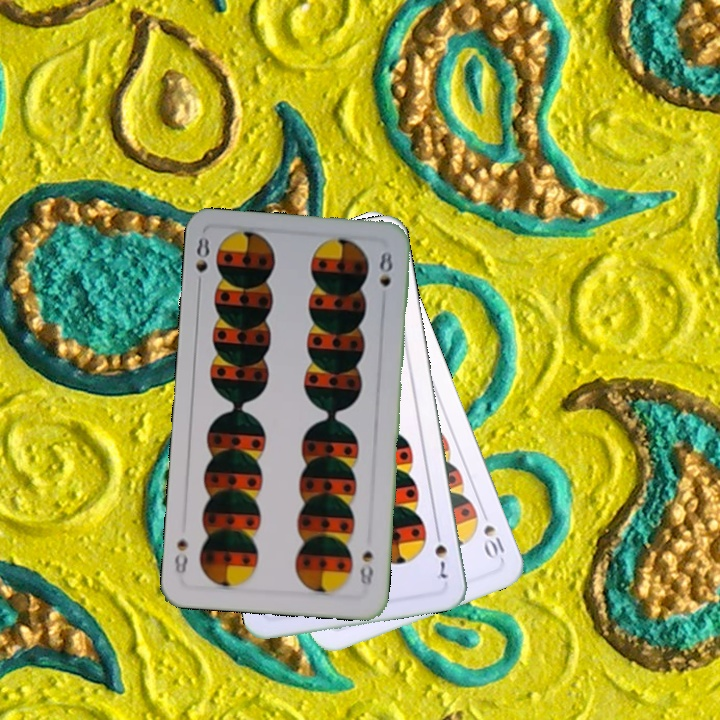S10: (477, 505, 509, 562)
S7: (430, 525, 450, 581)
S8: (192, 233, 212, 292), (356, 547, 376, 588)
